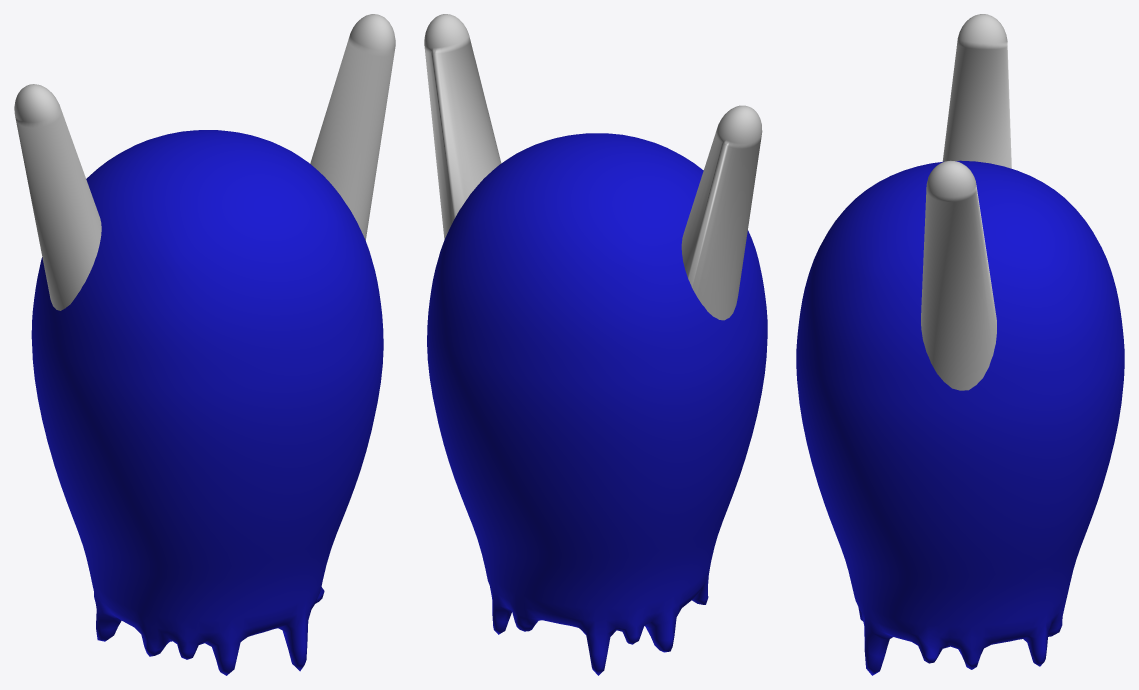
Rendered from beforeThrow_000030.obj.
3 views of the same model, side by side, from view 1: azimuth 30°, elevation 25°; view 2: azimuth 150°, elevation 25°; view 3: azimuth 270°, elevation 25° (orthographic). The views are drawn at different scales.
Parts seen in each view (by area): view 1: Cube, Sphere.001, Sphere; view 2: Cube, Sphere.001, Sphere; view 3: Cube, Sphere, Sphere.001.
Part boxes in pixels (box(x1,y1,x2,y2)): Cube: box(31, 130, 383, 675); Sphere.001: box(14, 84, 101, 310); Sphere: box(310, 14, 395, 240); Cube: box(427, 133, 767, 675); Sphere.001: box(681, 105, 762, 320); Sphere: box(424, 14, 501, 239); Cube: box(796, 160, 1124, 675); Sphere: box(921, 160, 996, 390); Sphere.001: box(942, 14, 1011, 168).
Bounding box in the file's own units: 0.3414 × 0.5453 × 0.2859.
